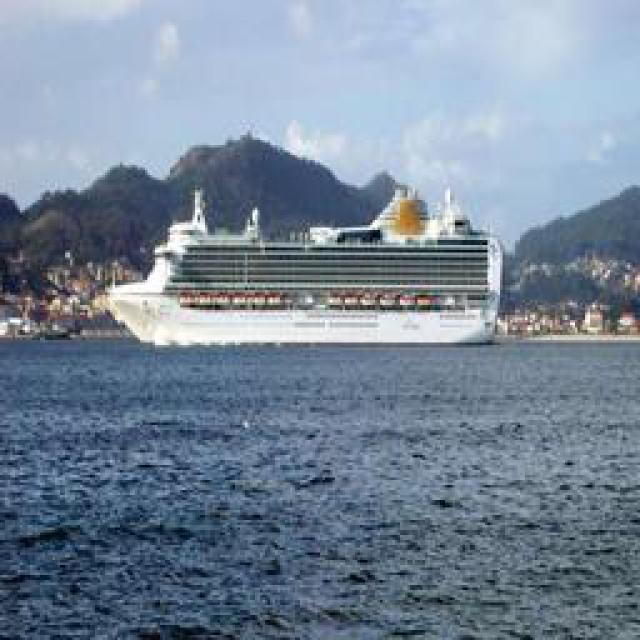Ship: (103, 193, 501, 351)
